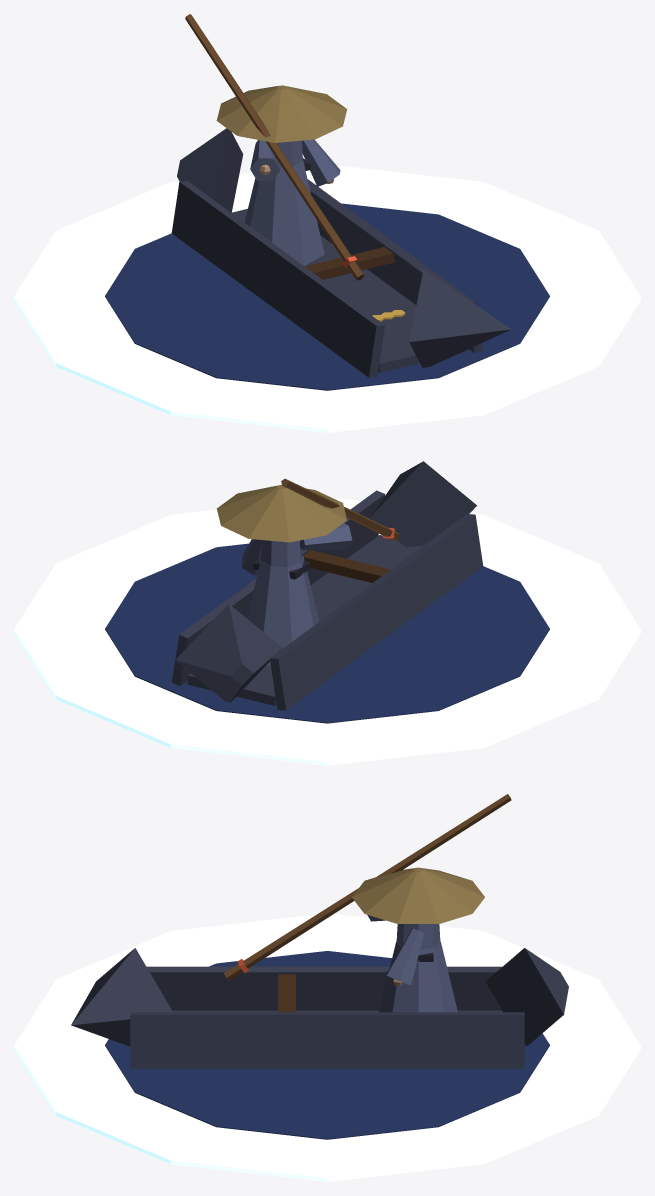
Rendered from boss_naru_attack.glb.
The picture shows the model from 3 angles, top to bottom: view 1: azimuth 30°, elevation 25°; view 2: azimuth 150°, elevation 25°; view 3: azimuth 270°, elevation 25°; orthographic projection.
Visible parts, largest first — view 1: boss_naru_attack; view 2: boss_naru_attack; view 3: boss_naru_attack.
Boxes of the visible parts, x1,y1,x2,y2 form: boss_naru_attack: (14, 14, 640, 432); boss_naru_attack: (14, 461, 640, 765); boss_naru_attack: (14, 794, 640, 1181).
Bounding box in the file's own units: 6.2 × 2.53 × 6.2.
